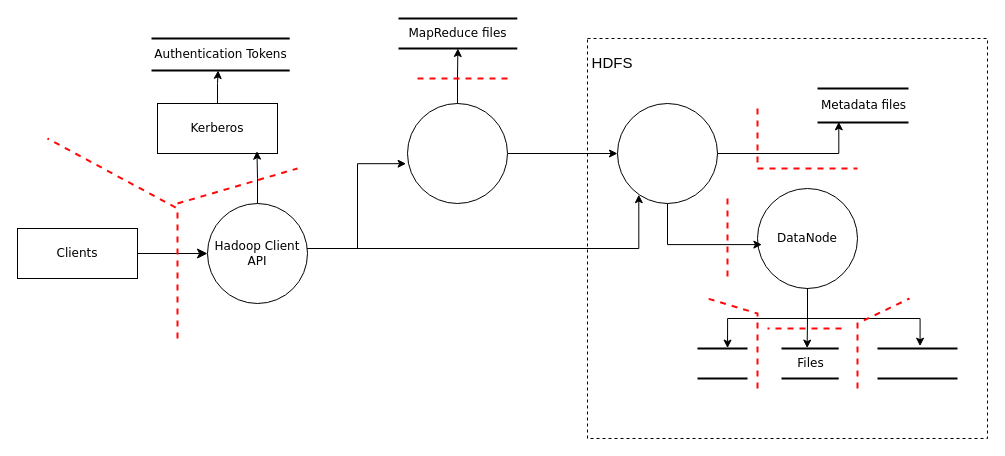
This 1005x456 diagram has some shape labels left out. Each missing label, with the centre of its shape:
Config files: (917,363)
Logs: (722,363)
NameNode: (667,153)
YARN: (457,153)
